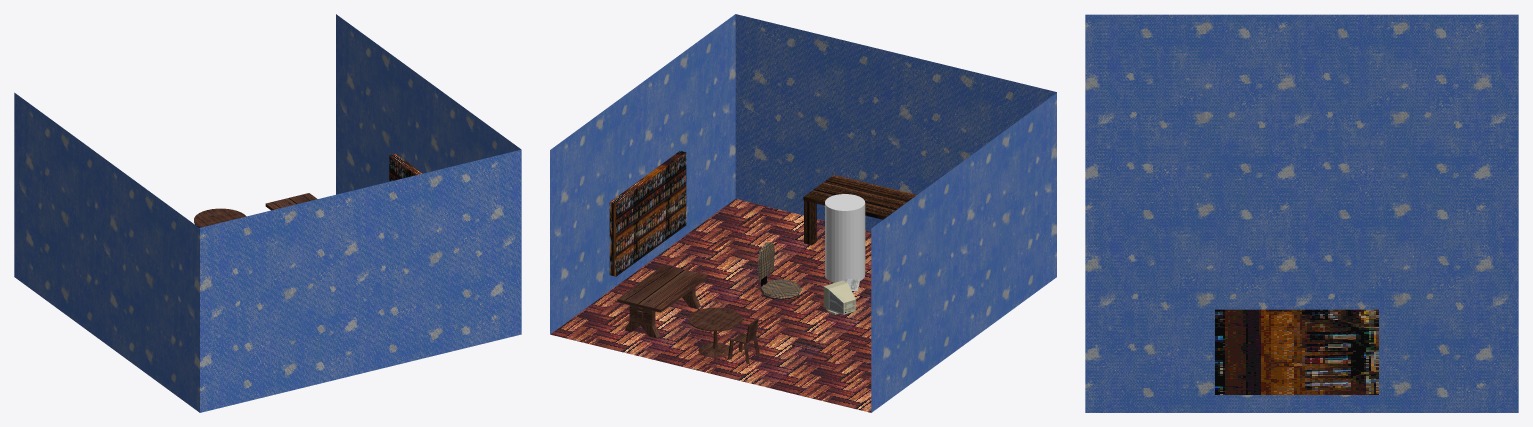
Rendered from cutscene_room_props.glb.
3 renders of one model, left to right at view 1: azimuth 30°, elevation 25°; view 2: azimuth 150°, elevation 25°; view 3: azimuth 270°, elevation 25°, orthographic. The views are drawn at different scales.
Parts seen in each view (by area): view 1: room, mesa_redonda, bottles; view 2: room, bottles, Cylinder, squaredtable, table, mesa_redonda, chair.001, monitorCRT.002, sila_madera; view 3: room, bottles.
Boxes of the visible parts, x1,y1,x2,y2 form: room: (14,14,521,412); mesa_redonda: (194,208,246,227); bottles: (389,153,422,181); room: (550,14,1056,412); bottles: (609,151,686,276); Cylinder: (825,194,865,282); squaredtable: (617,265,707,338); table: (803,174,916,245); mesa_redonda: (688,307,742,357); chair.001: (757,242,801,299); monitorCRT.002: (823,280,855,314); sila_madera: (728,318,759,363); room: (1085,14,1518,412); bottles: (1215,309,1378,394).
Size of the model in its own units: 9.22 by 5.63 by 9.21.
15 materials, 9 textured.
